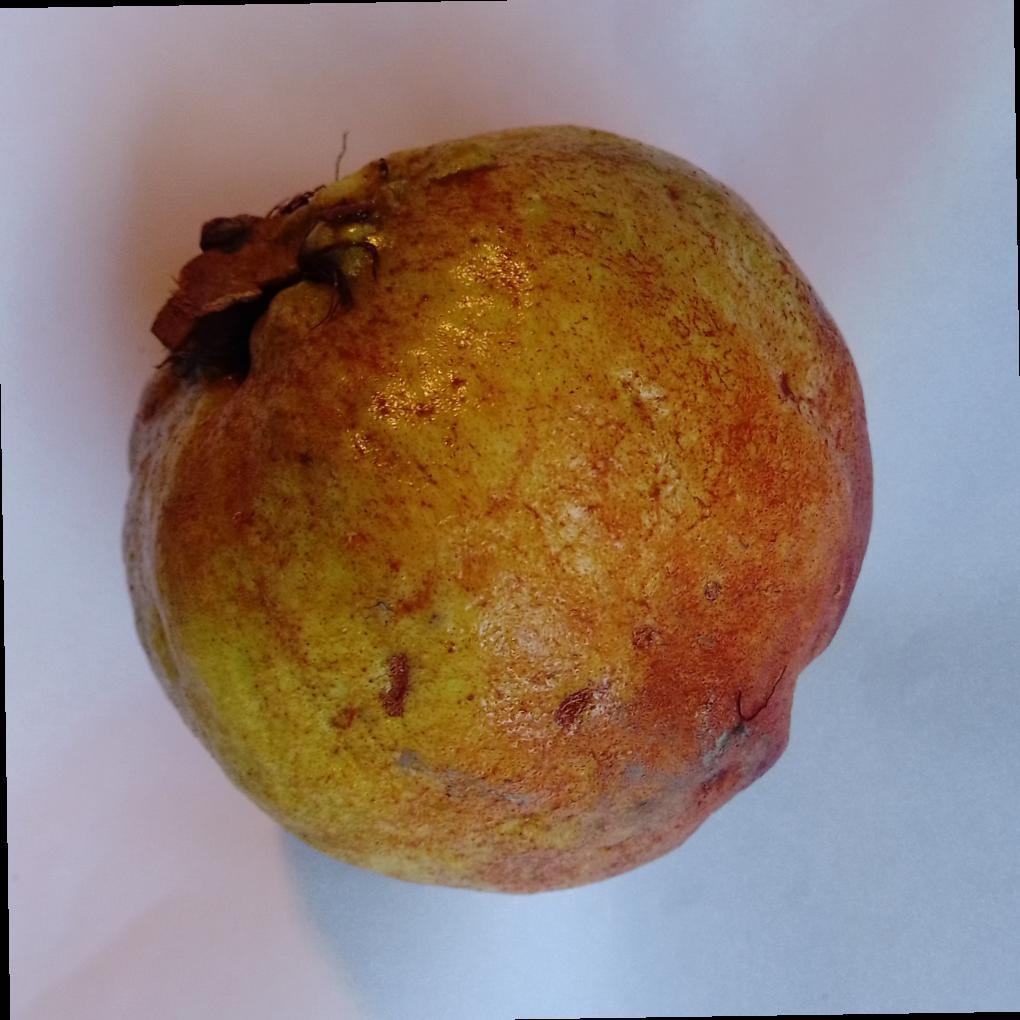FreshOrange: (120, 124, 874, 900)
